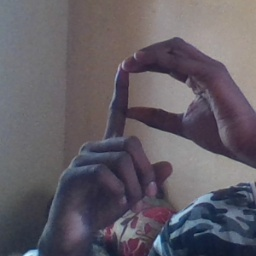P: (68, 32, 227, 202)
